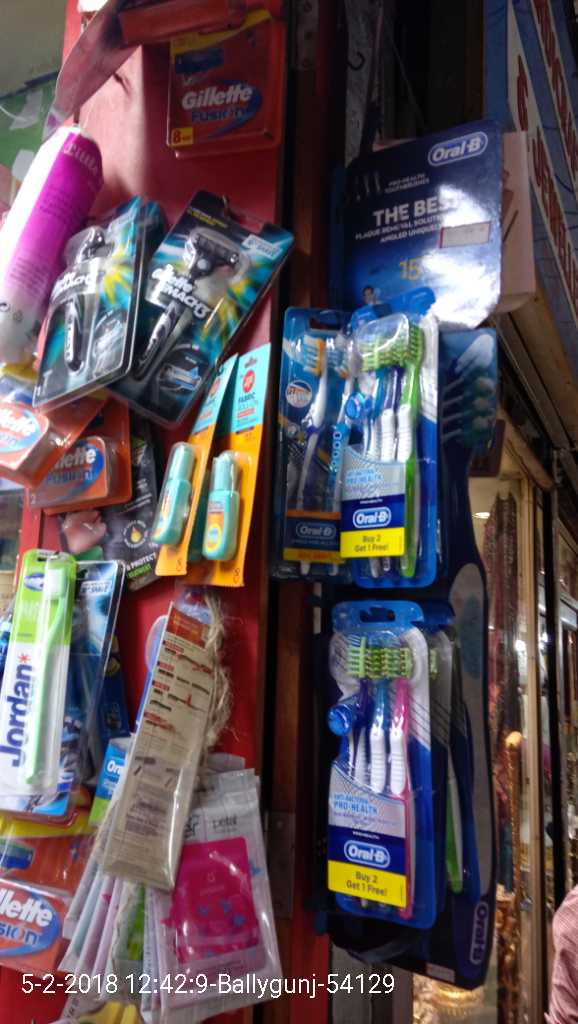beauty: (35, 191, 283, 411)
pharmacy: (302, 627, 436, 924), (322, 302, 436, 576)
